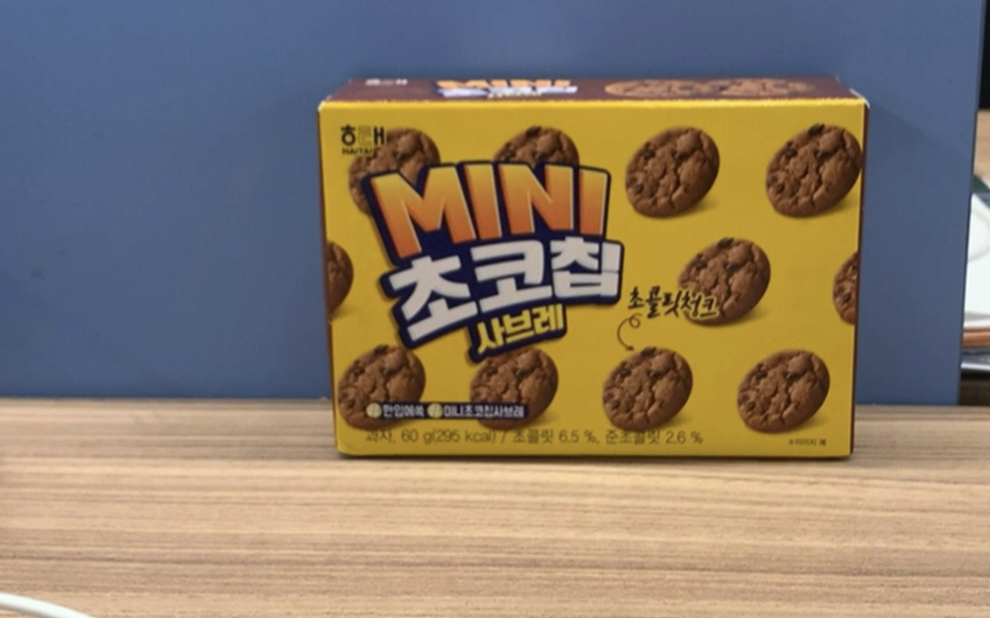cookies_1g-99g: (340, 115, 833, 454)
